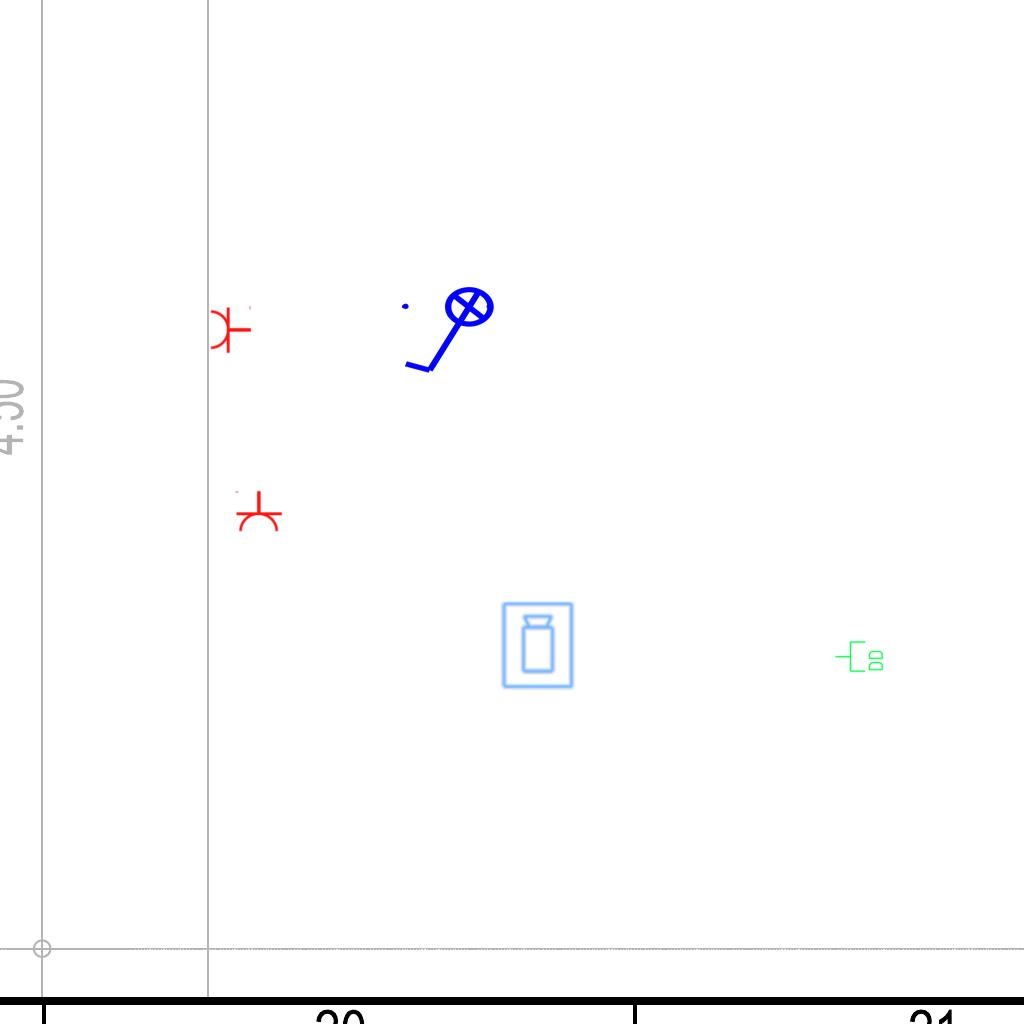Ausschalter_beleuchtet: (396, 285, 508, 381)
Datenanschluss_zweifach: (834, 640, 885, 674)
KFO_Kamera_mit_Festobjektiv: (500, 600, 577, 691)
Schukosteckdose_einfach: (233, 490, 283, 533), (209, 304, 252, 354)
